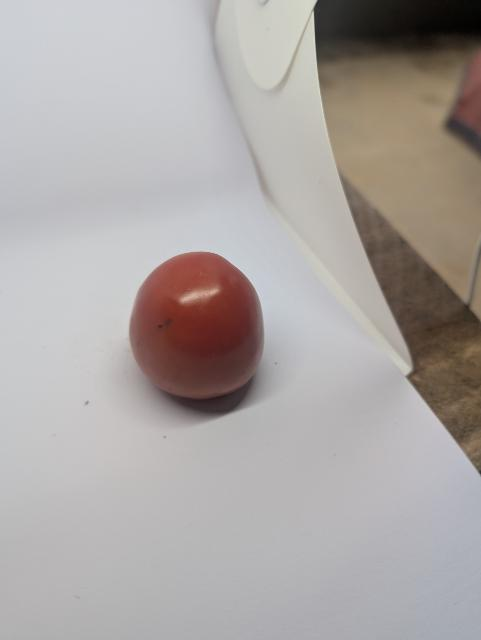red: (122, 246, 273, 418)
